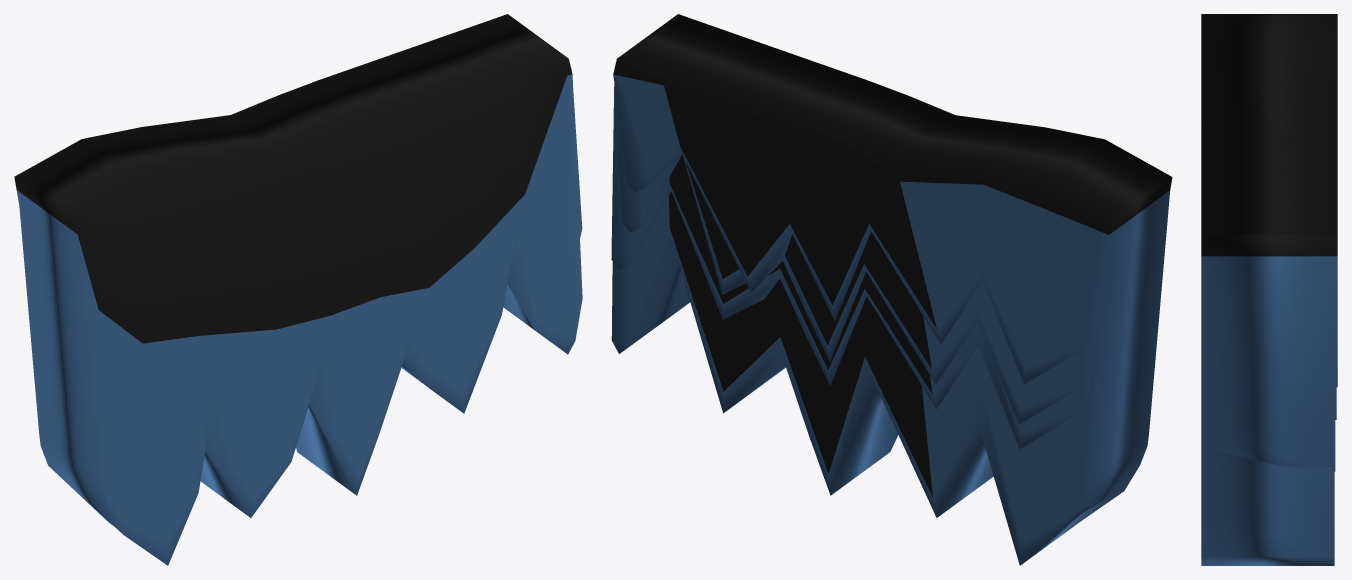
The model's file is mouths.fbx.
3 renders of one model, left to right at view 1: azimuth 30°, elevation 25°; view 2: azimuth 150°, elevation 25°; view 3: azimuth 270°, elevation 25°, orthographic. The views are drawn at different scales.
Parts seen in each view (by area): view 1: Mouth4, Mouth1, Mouth2, Mouth3; view 2: Mouth4, Mouth1, Mouth3, Mouth2; view 3: Mouth3, Mouth1, Mouth4, Mouth2.
Boxes of the visible parts, x1,y1,x2,y2 form: Mouth4: (18,16,582,565); Mouth1: (14,14,554,232); Mouth2: (15,15,550,233); Mouth3: (16,15,582,237); Mouth4: (611,14,1172,565); Mouth1: (613,15,1169,384); Mouth3: (611,14,1170,449); Mouth2: (614,14,1168,424); Mouth3: (1202,14,1335,471); Mouth1: (1204,14,1337,387); Mouth4: (1201,14,1334,565); Mouth2: (1203,14,1336,419).
Bounding box in the file's own units: 168 × 130 × 35.14.
